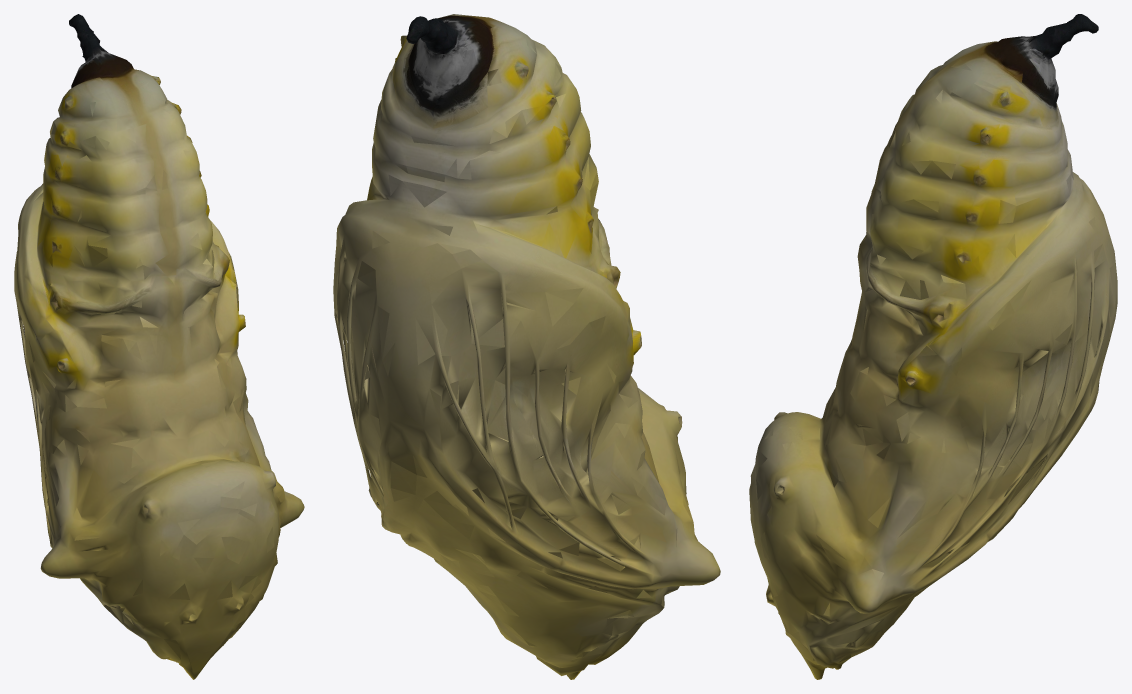
The model's file is crisalida_mechantis.fbx.
3 renders of one model, left to right at view 1: azimuth 30°, elevation 25°; view 2: azimuth 150°, elevation 25°; view 3: azimuth 270°, elevation 25°, orthographic. The views are drawn at different scales.
Visible parts, largest first — view 1: tripo_node_9a0b1be9; view 2: tripo_node_9a0b1be9; view 3: tripo_node_9a0b1be9.
Boxes of the visible parts, bbox=[...] form: tripo_node_9a0b1be9: bbox=[14, 14, 304, 679]; tripo_node_9a0b1be9: bbox=[333, 14, 720, 679]; tripo_node_9a0b1be9: bbox=[749, 14, 1117, 679].
Bounding box in the file's own units: 1.28 × 2.71 × 1.36.
1 material, 1 textured.
